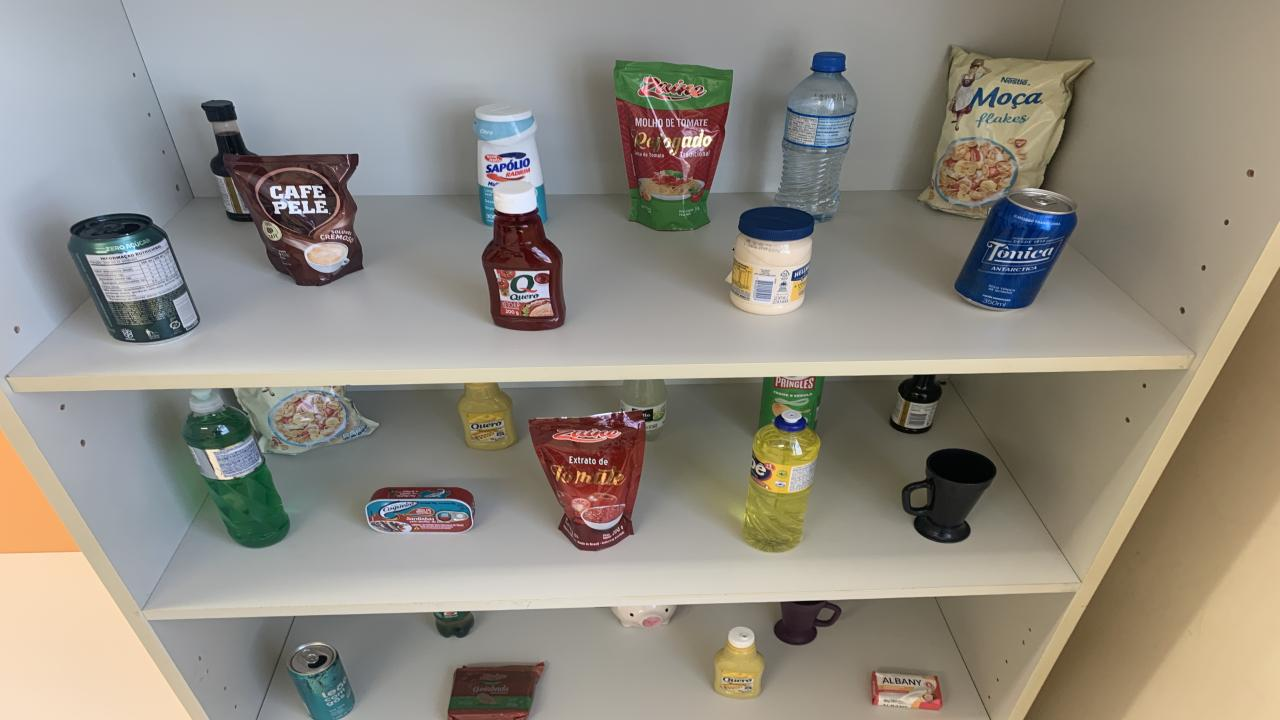Cleaner-Cleanup_Items: (472, 105, 545, 225), (700, 165, 702, 169)
Coffee-Pantry_Items: (222, 154, 362, 285)
Detergent-Cleanup_Items: (182, 388, 290, 548), (742, 411, 820, 551)
English_Sauce-Pantry_Items: (202, 99, 252, 221), (890, 375, 942, 433)
Flakes-Snacks: (918, 47, 1092, 218), (235, 386, 378, 456)
Guarana-Drinks: (432, 611, 475, 638)
Guarana_Can-Drinks: (68, 214, 200, 345)
Guava-Snacks: (448, 662, 545, 720)
Ketchup-Pantry_Items: (482, 180, 565, 330)
Mayonnaise-Pantry_Items: (728, 206, 815, 315)
Mustard-Pantry_Items: (458, 382, 518, 450), (715, 626, 765, 699)
Pig_Safe-Miscellaneous: (610, 606, 678, 628)
Pringles-Snacks: (760, 377, 825, 429)
Soap-Cleanup_Items: (872, 671, 942, 711)
Soda-Drinks: (620, 379, 668, 441)
Tea-Drinks: (288, 641, 355, 720)
Tomato_Sauce-Pantry_Items: (615, 60, 732, 231), (528, 411, 645, 551)
Tonic-Drinks: (955, 188, 1078, 309)
Tuna_Can-Pantry_Items: (365, 488, 475, 532)
Water_Bottle-Drinks: (775, 52, 858, 221)
